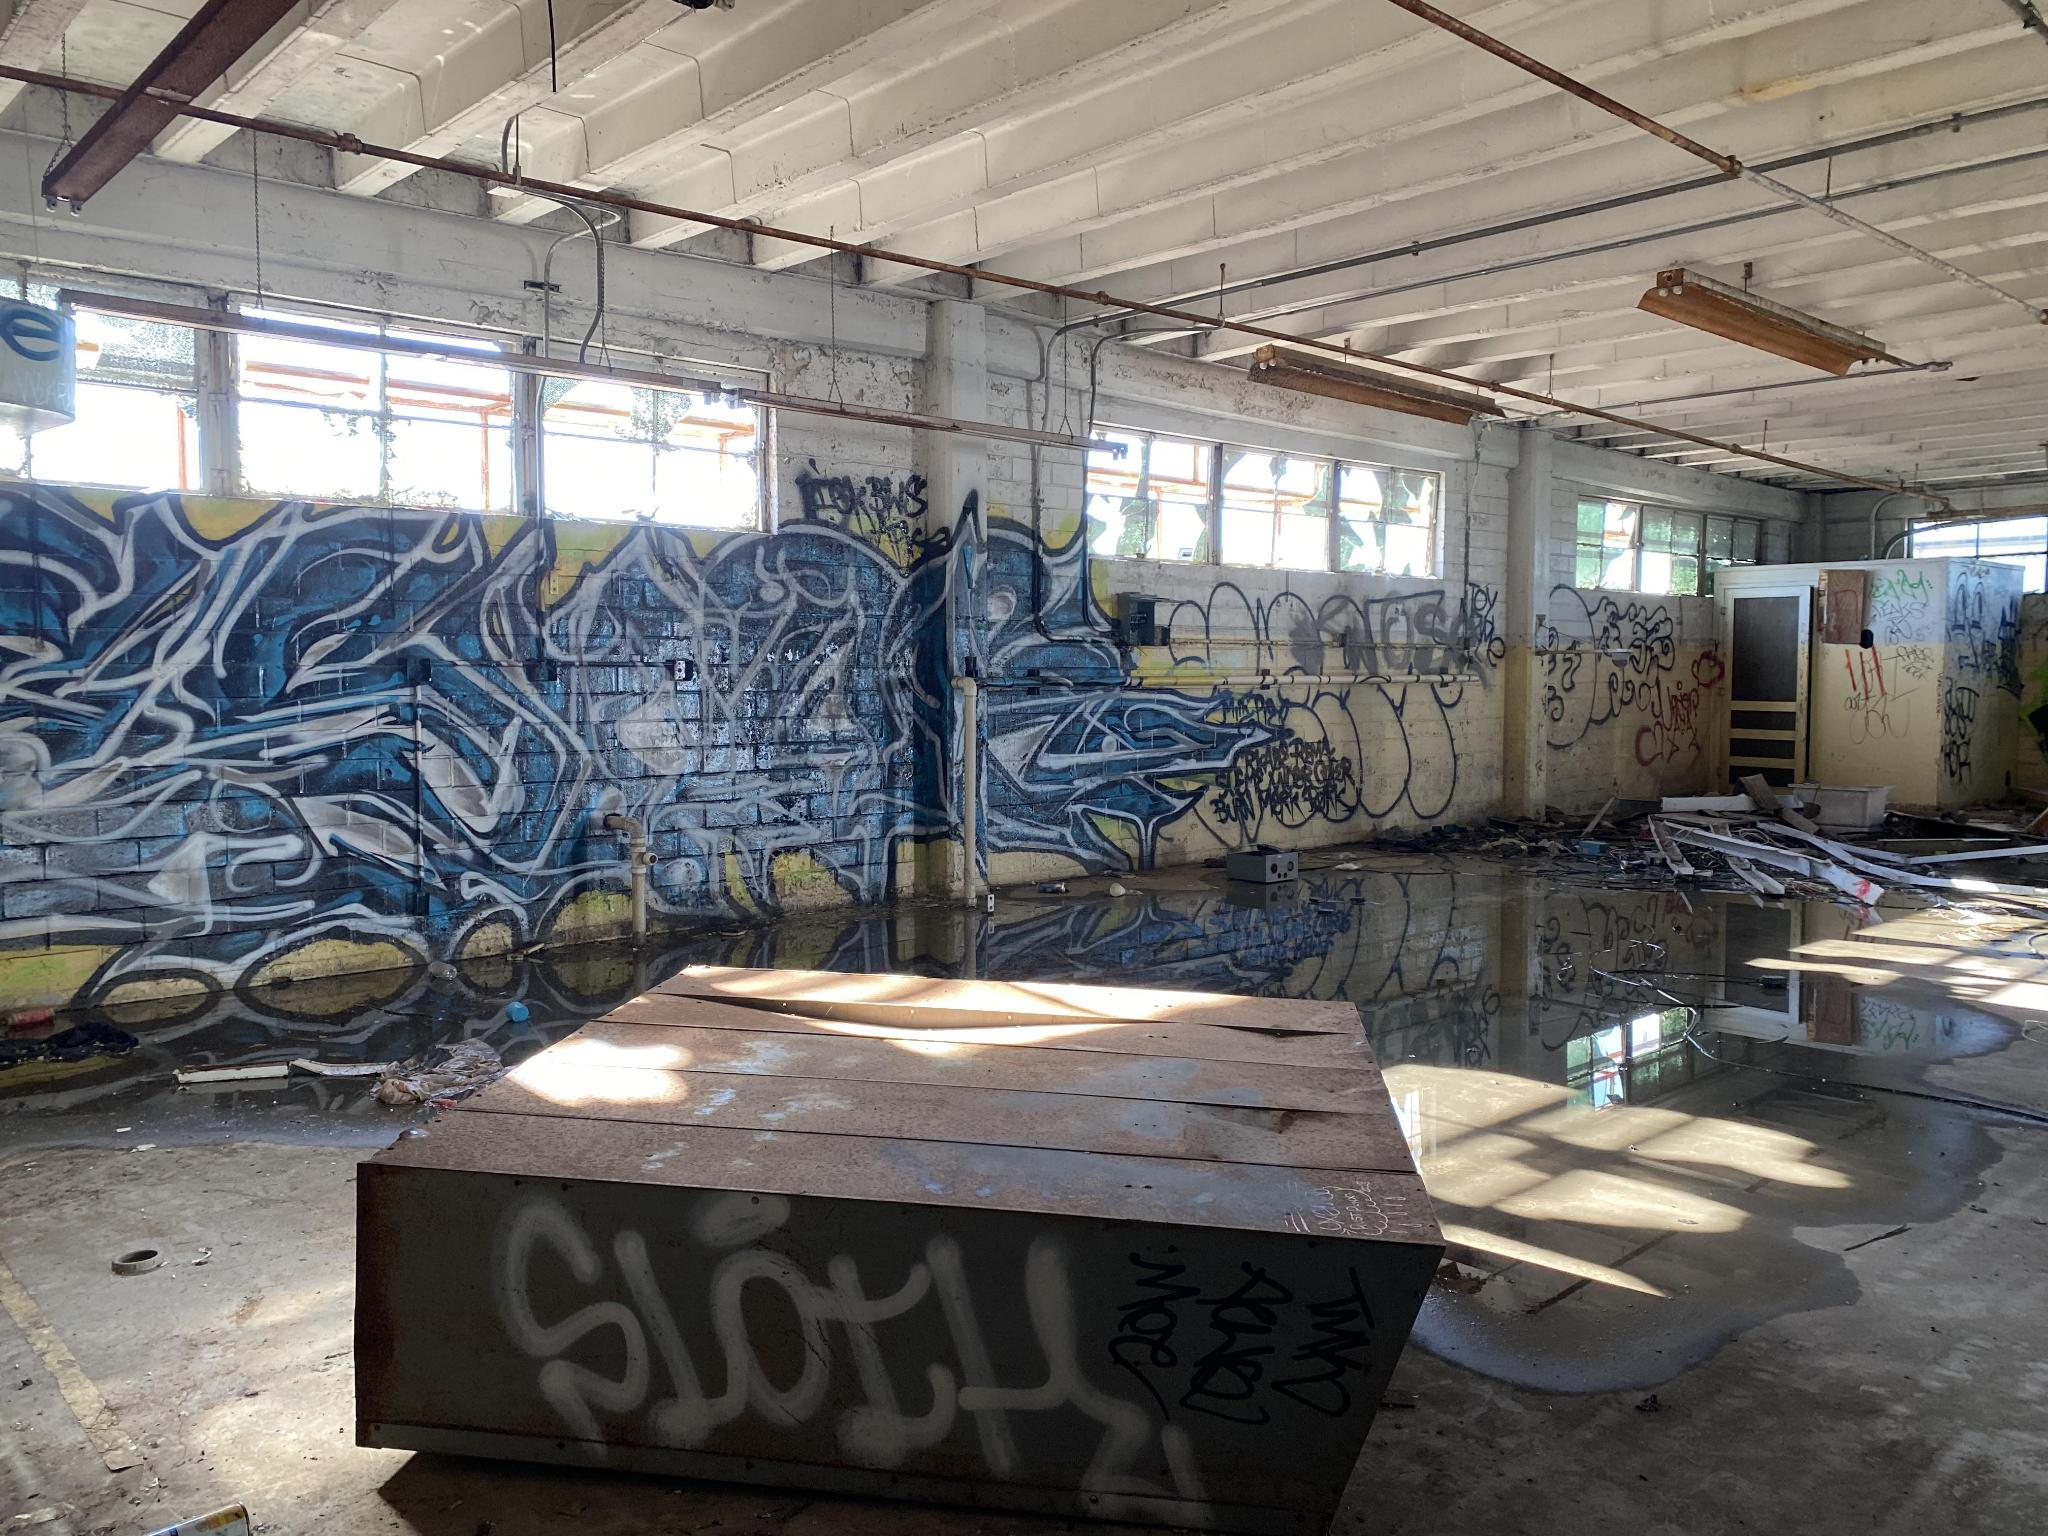graffiti: (8, 481, 943, 912), (472, 1175, 1379, 1515), (958, 511, 1508, 850), (1542, 586, 1729, 786), (1835, 578, 2011, 781)
